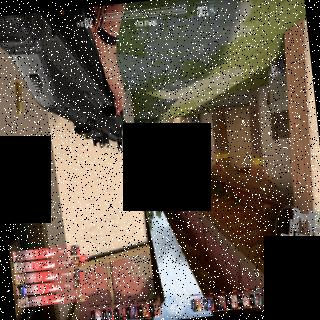ENEMY-BODY: (155, 144, 162, 162)
ENEMY-HEAD: (158, 157, 160, 161)
